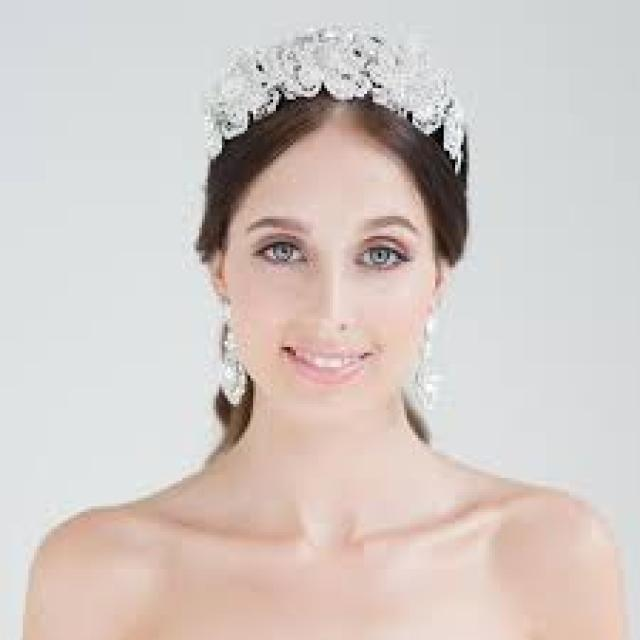Earring: (410, 290, 460, 428), (212, 300, 266, 418)
